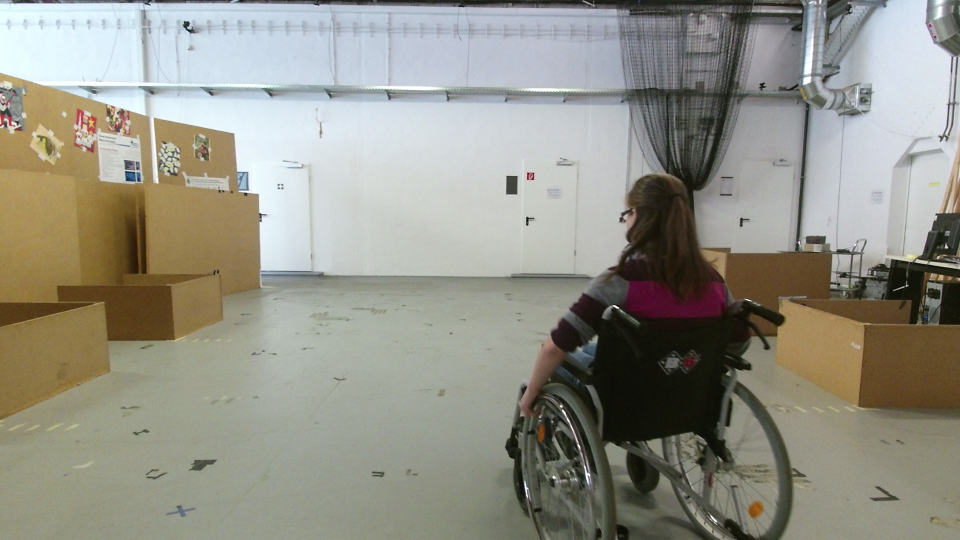wheelchair: (502, 169, 808, 540)
